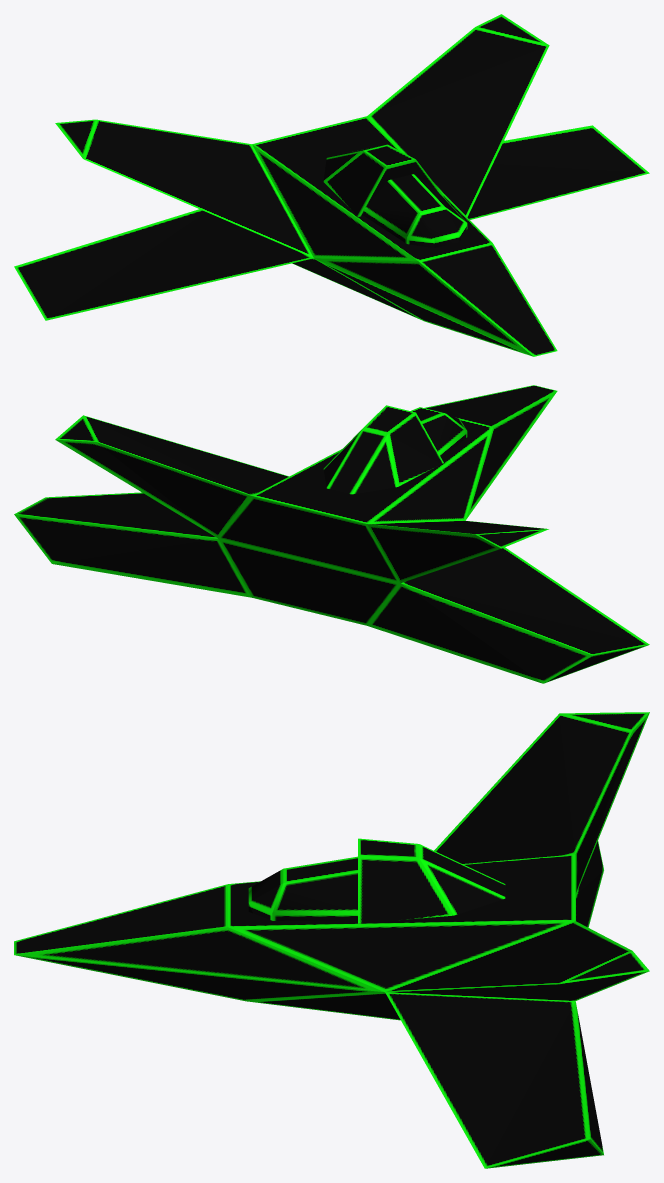
File: player.obj
3 renders of one model, top to bottom at view 1: azimuth 30°, elevation 25°; view 2: azimuth 150°, elevation 25°; view 3: azimuth 270°, elevation 25°, orthographic. The views are drawn at different scales.
Visible parts, largest first — view 1: 立方体; view 2: 立方体; view 3: 立方体.
Boxes of the visible parts, left/top/right/bottom form: 立方体: left=14, top=14, right=649, bottom=356; 立方体: left=14, top=385, right=649, bottom=683; 立方体: left=14, top=712, right=649, bottom=1168.
Size of the model in its own units: 3.5 by 0.7997 by 2.68.
1 material, 1 textured.
